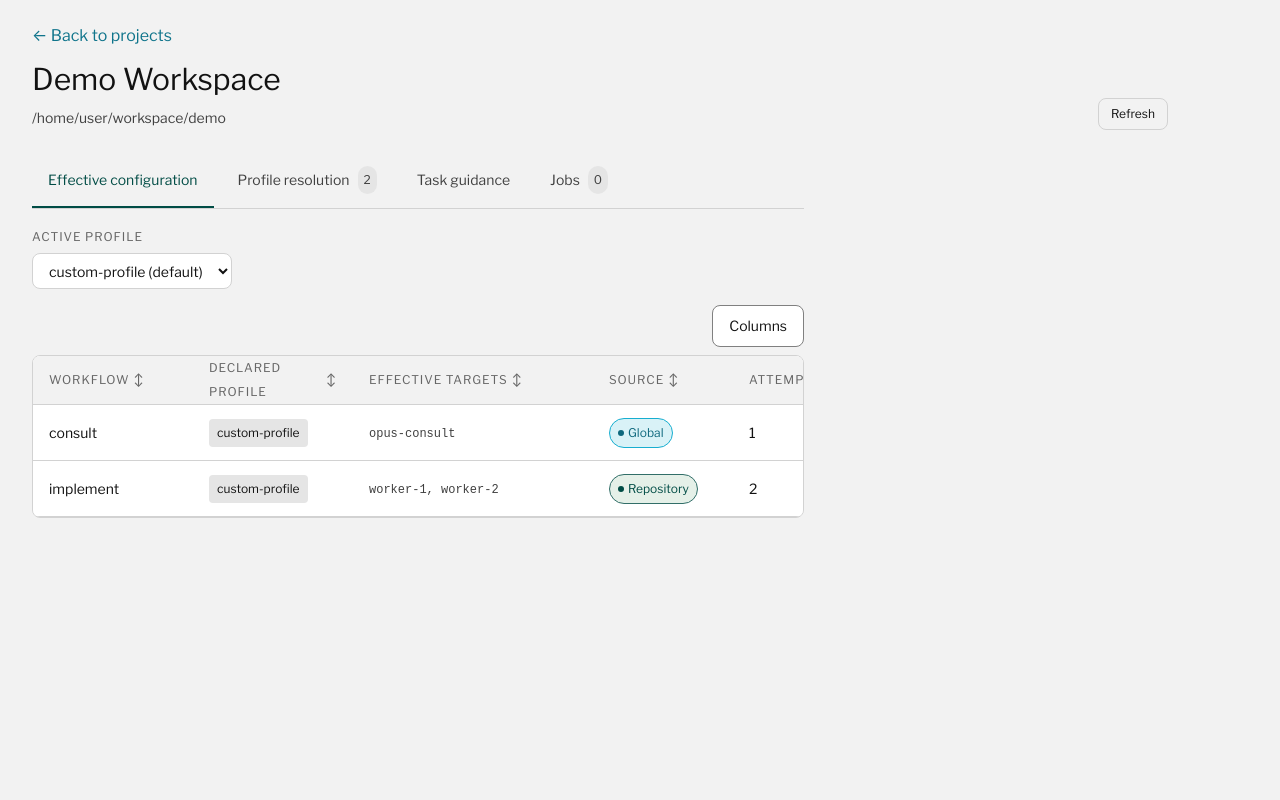
ProjectDetail screen › opens docked inspector on workflow row click
Expected: the text "consult" is shown, [49,424,97,440]
Click the text "consult".
click(483, 432)  # box [33,404,933,460]
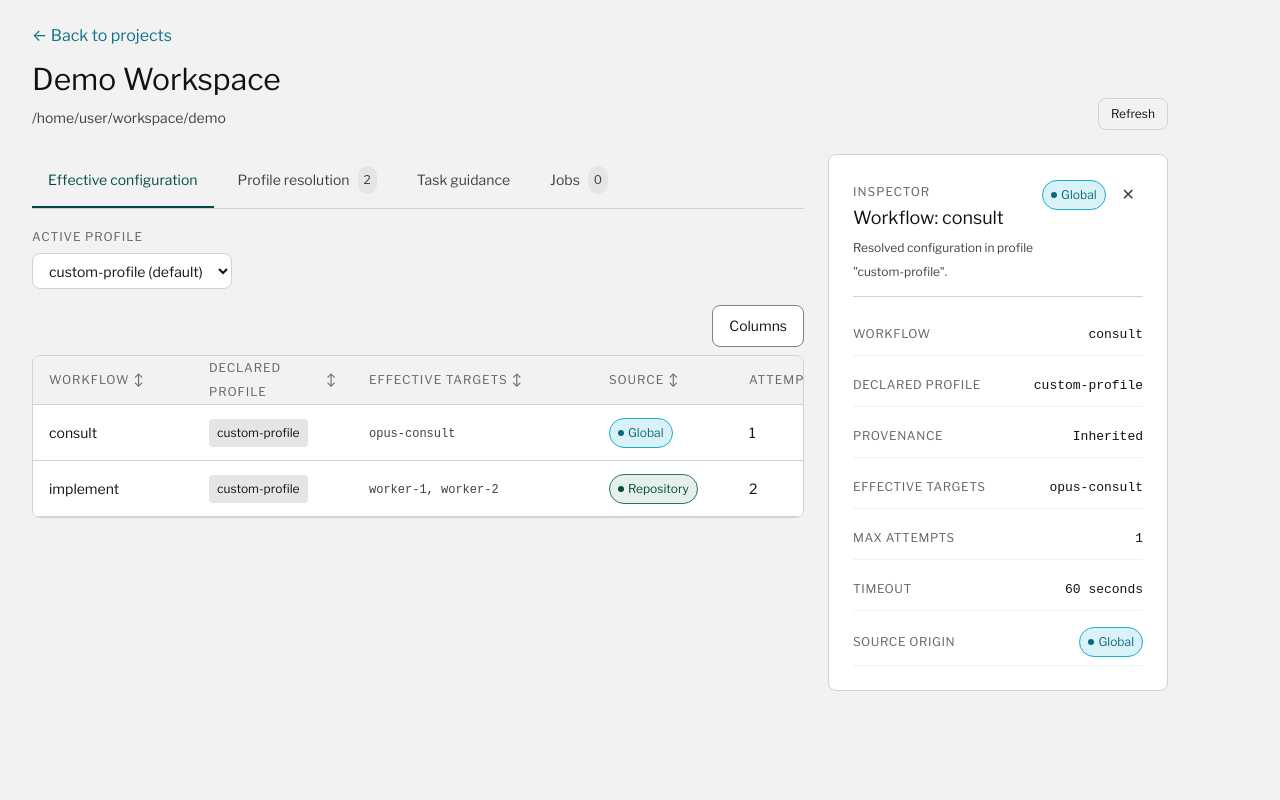
Result: the element named "Inspector: Workflow: consult" is shown at [828,154,1168,691]
Result: the text "60 seconds" is shown at [1065,582,1143,597]
